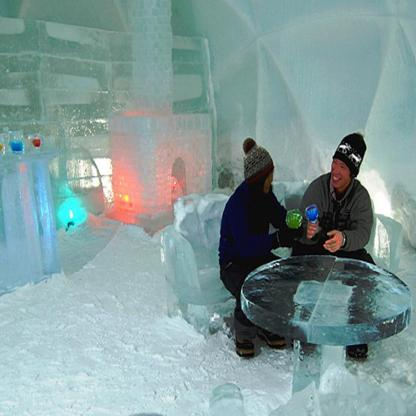face: (332, 156, 354, 189), (263, 171, 274, 195)
